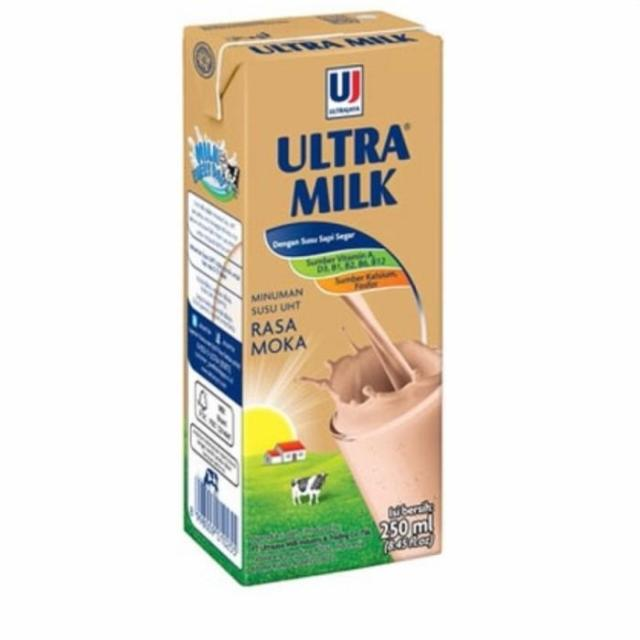drink carton: (182, 8, 445, 581)
